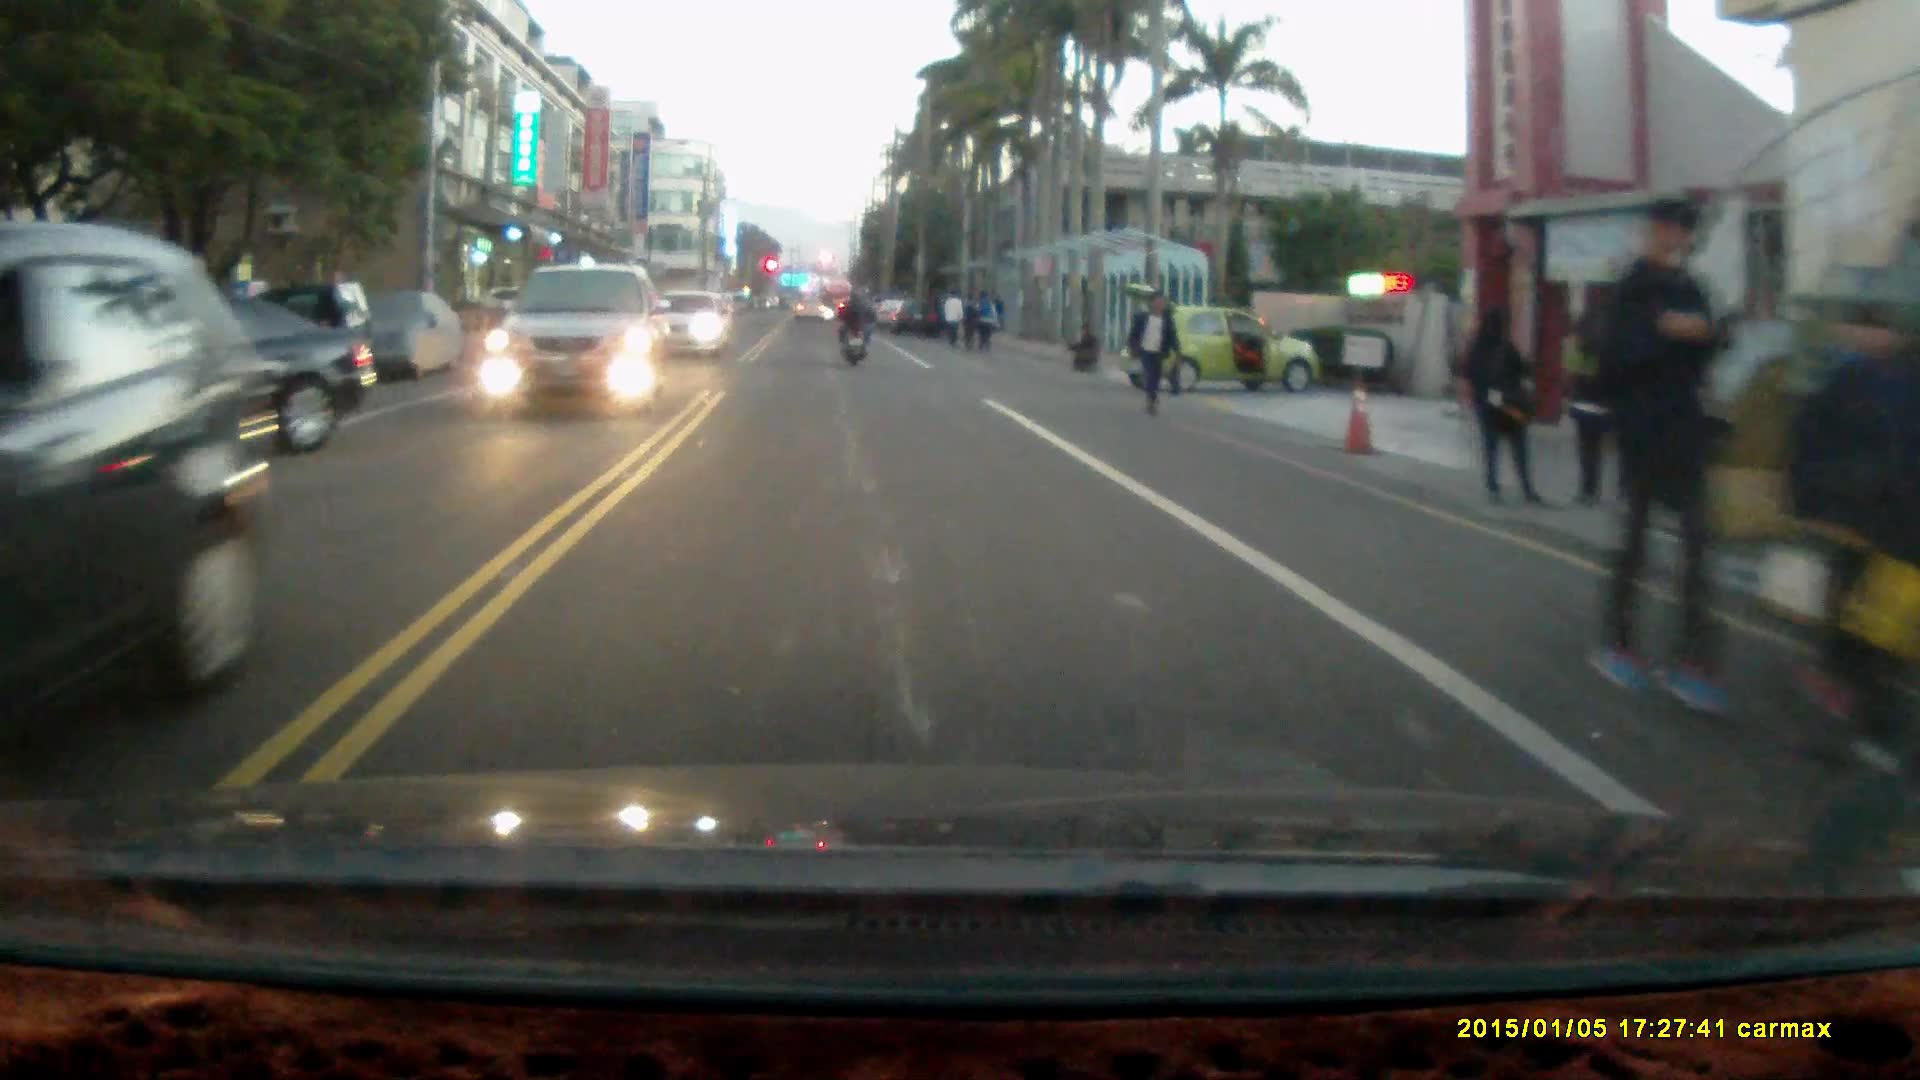pedestrian: (1590, 193, 1745, 722), (1847, 348, 1920, 782), (1464, 302, 1548, 509), (1122, 291, 1178, 419), (972, 289, 998, 355), (1069, 324, 1101, 371), (942, 287, 964, 352), (959, 293, 980, 352)
rider: (836, 288, 873, 368)
vehicle: (0, 286, 382, 466), (480, 266, 675, 414), (1121, 279, 1324, 394), (646, 291, 731, 360)
